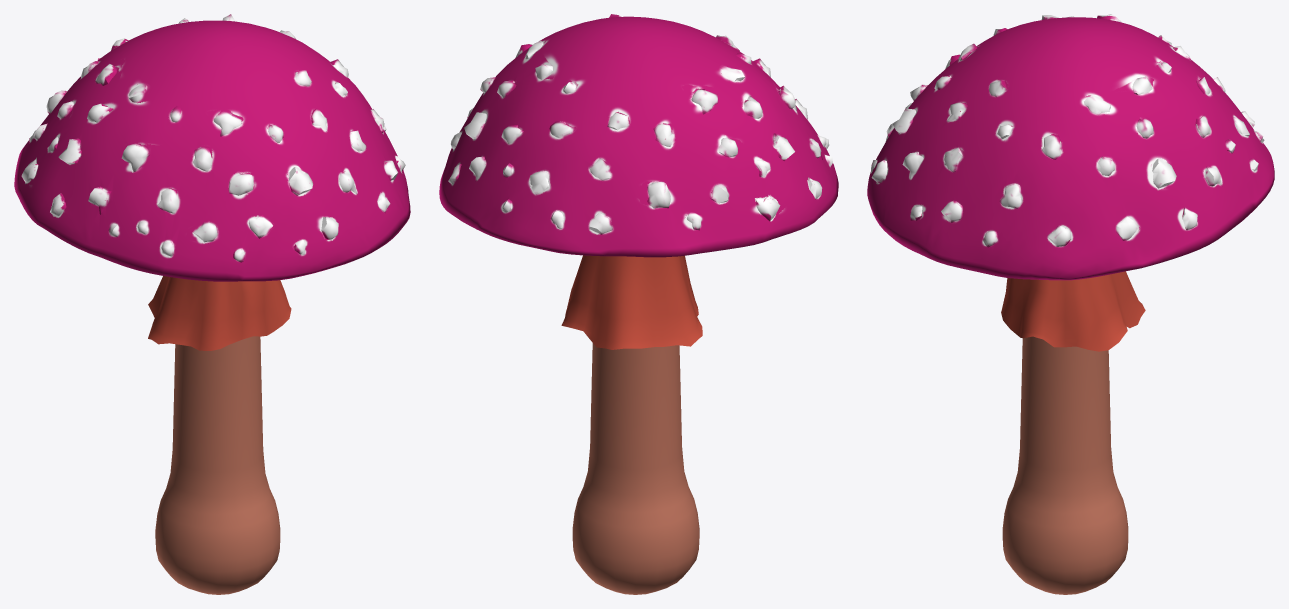
Rendered from pruebaColor2.glb.
3 renders of one model, left to right at view 1: azimuth 30°, elevation 25°; view 2: azimuth 150°, elevation 25°; view 3: azimuth 270°, elevation 25°, orthographic.
Visible parts, largest first — view 1: Malla, Malla_2, Malla_1; view 2: Malla, Malla_2, Malla_1; view 3: Malla, Malla_2, Malla_1.
Part boxes in pixels (x1,y1,x2,y2): Malla: [14, 14, 410, 281]; Malla_2: [155, 336, 280, 594]; Malla_1: [148, 276, 291, 350]; Malla: [439, 14, 838, 257]; Malla_2: [572, 343, 699, 594]; Malla_1: [561, 255, 702, 349]; Malla: [867, 14, 1274, 280]; Malla_2: [1002, 336, 1128, 594]; Malla_1: [1001, 271, 1145, 351].
Size of the model in its own units: 3.99 by 6.05 by 4.
Materials: 3 (3 with a texture image).
